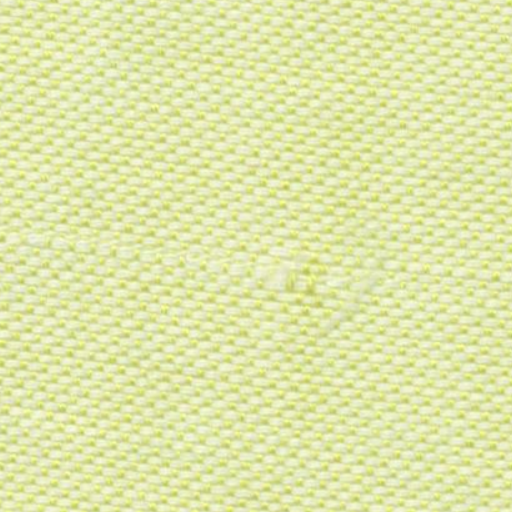DuanSha: (246, 250, 348, 316)
